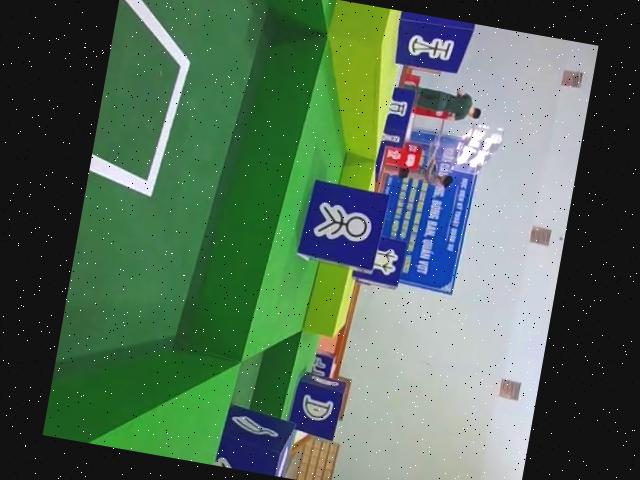R2 Real Blue: (294, 177, 391, 272), (209, 401, 298, 478), (390, 10, 477, 73), (286, 369, 347, 441), (349, 232, 407, 289), (379, 84, 416, 149)
